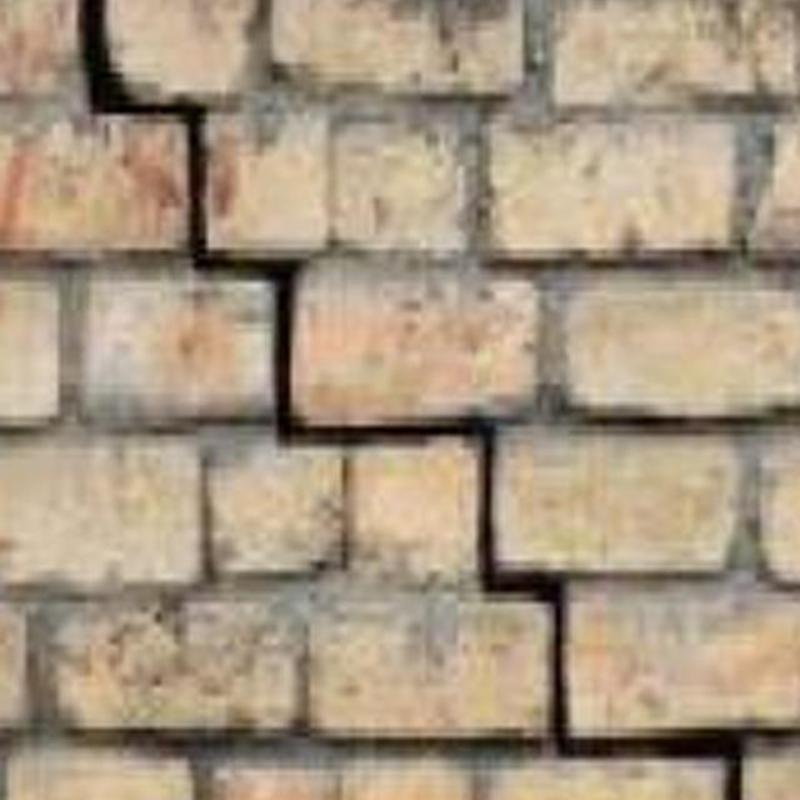pothole: (80, 0, 799, 799)
